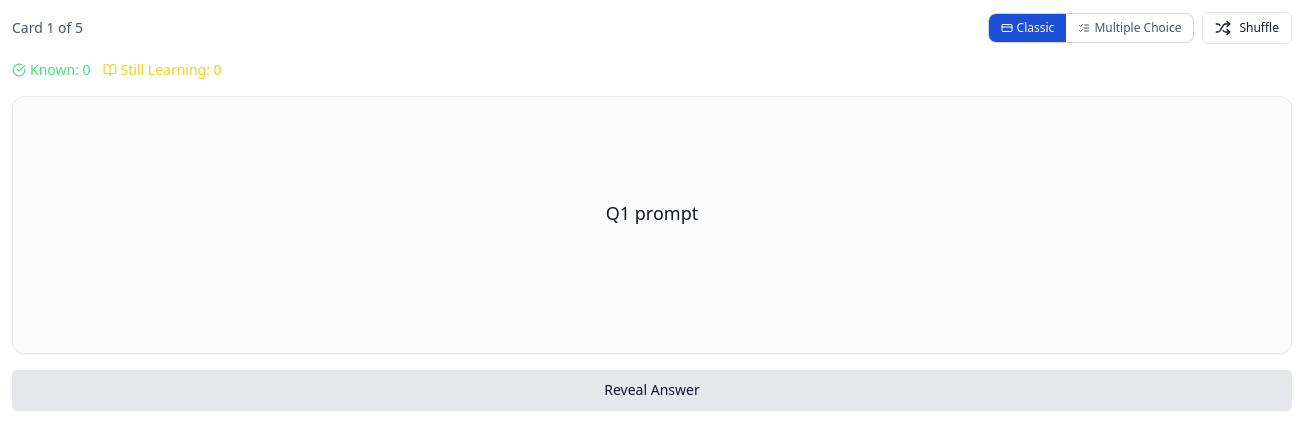
Test: FlashcardViewer shuffle with a parent-owned order › a parent reshuffle restarts the session at card 1
The width and height of the screenshot is (1304, 428).
Click the button "Reveal Answer". click: point(652, 390)
box: [12,370,1292,410]
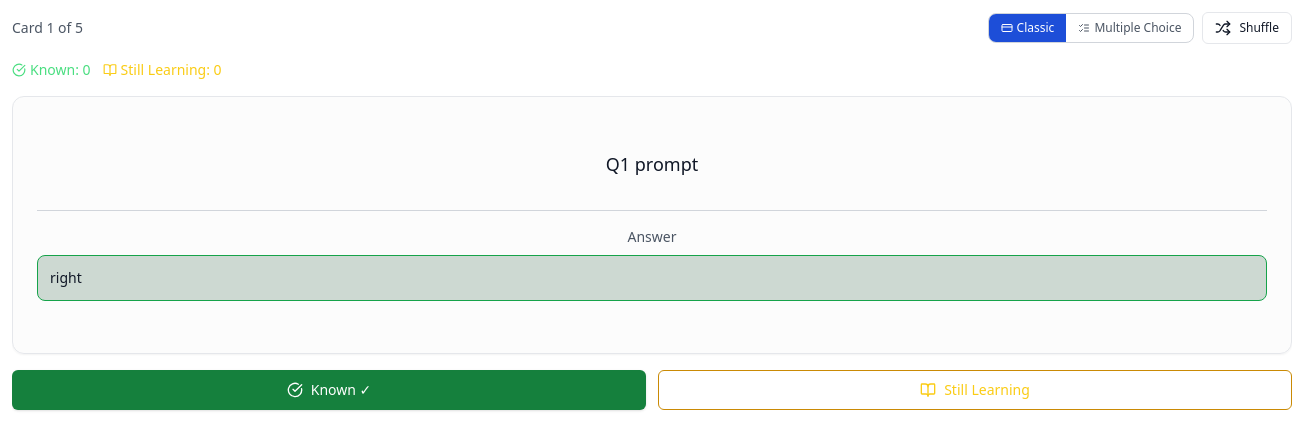
Click the button with aria-label "Mark card as still learning". click: point(975, 390)
box: [658,370,1292,410]
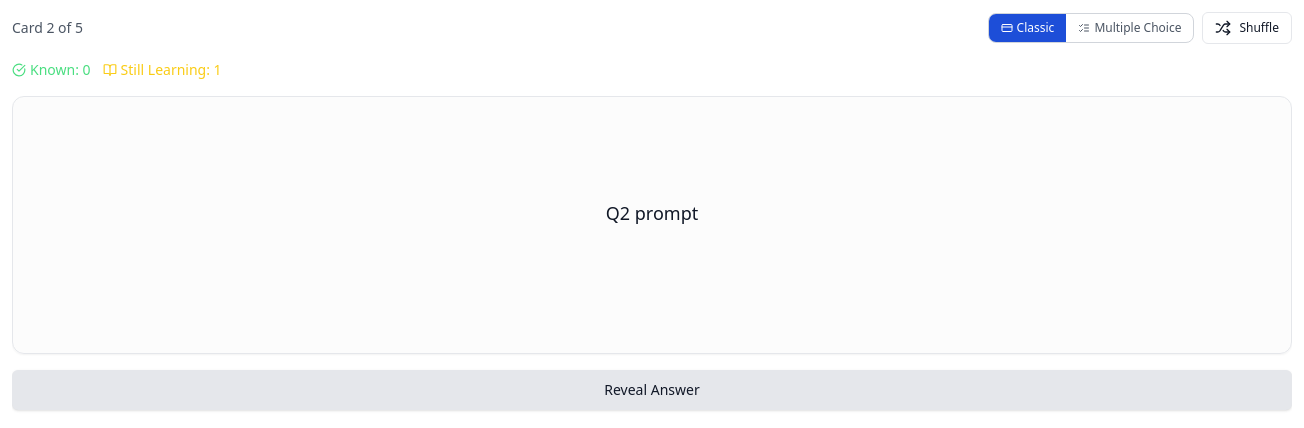
Click the button "Reveal Answer". click: point(652, 390)
box: [12,370,1292,410]
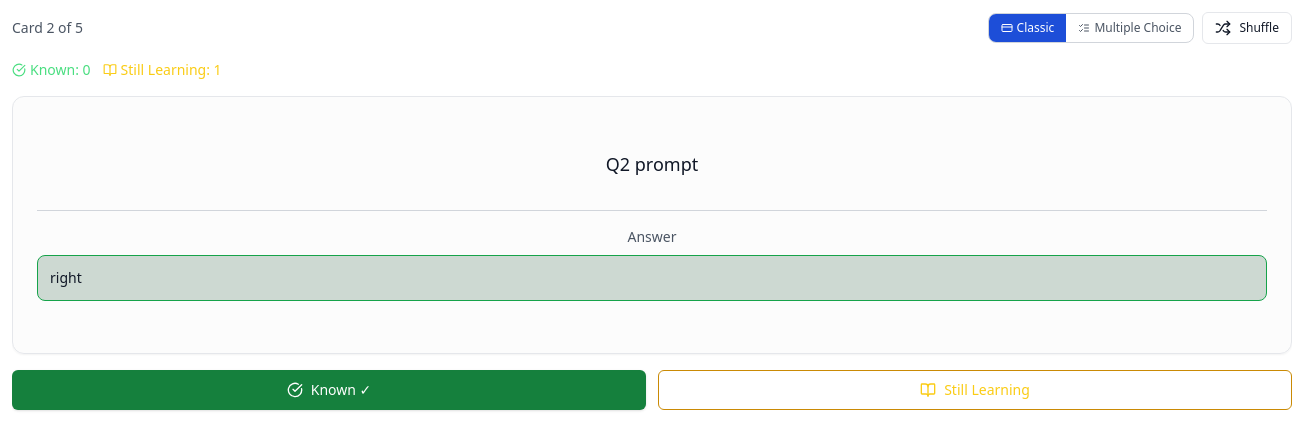
Click the button with aria-label "Mark card as still learning". click: point(975, 390)
box: [658,370,1292,410]
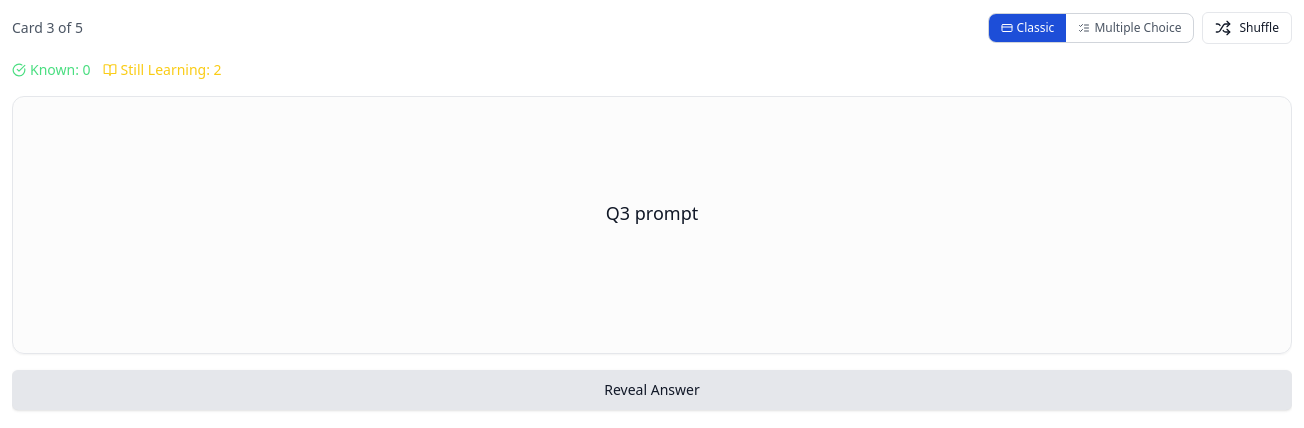
Click the button with aria-label "Shuffle cards and restart session". click: point(1247, 28)
box: [1202,12,1292,44]
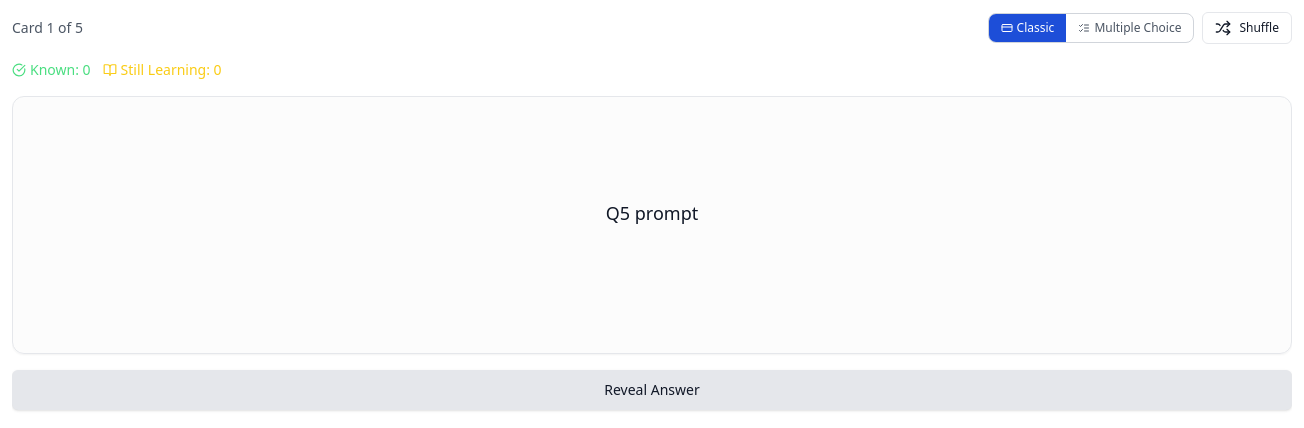
Now the text "Card 1 of 5" is shown, box [12,18,83,38]
Now the text "Q5 prompt" is shown, box [606,199,698,227]
